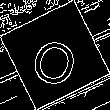O_N: (26, 24, 84, 86)
